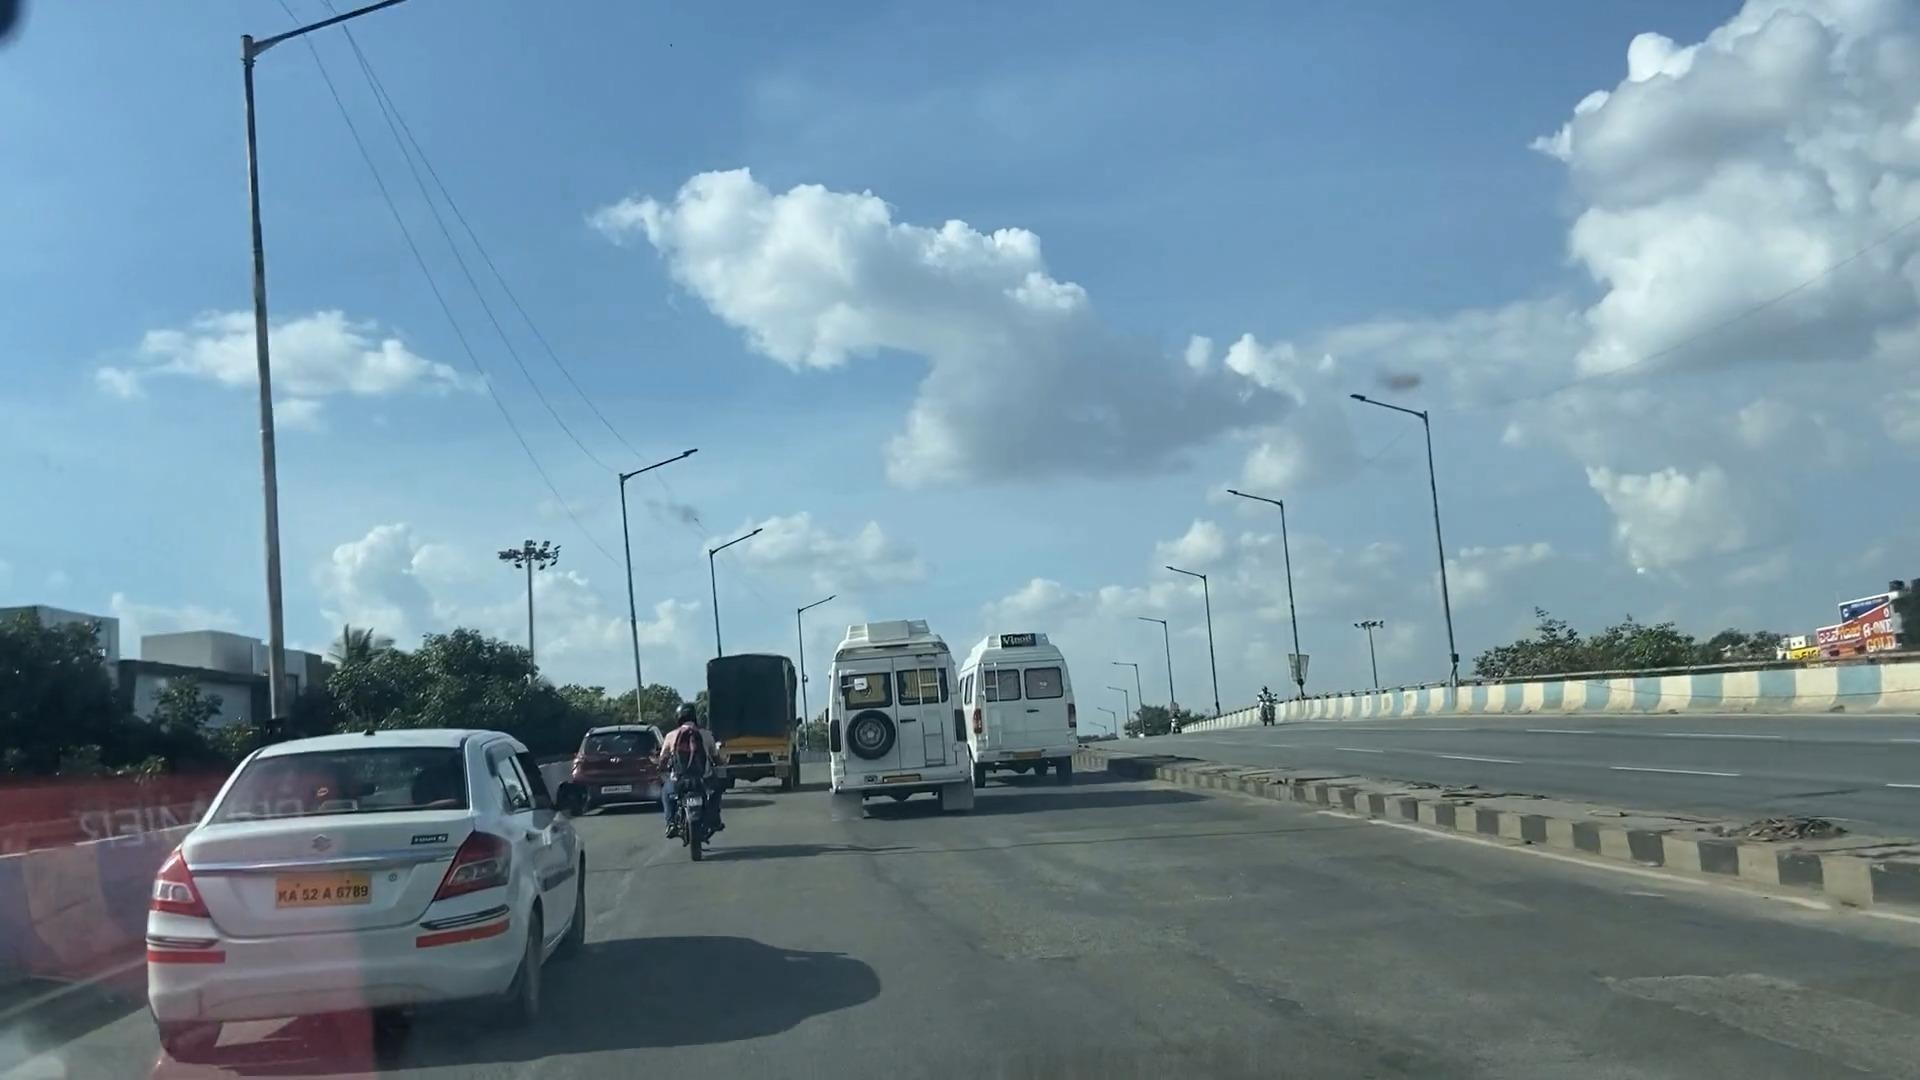HMV: (824, 620, 980, 828), (964, 629, 1067, 785)
LMV: (185, 703, 589, 1059), (654, 669, 732, 868)
RoadDamages: (1486, 898, 1916, 1080)
